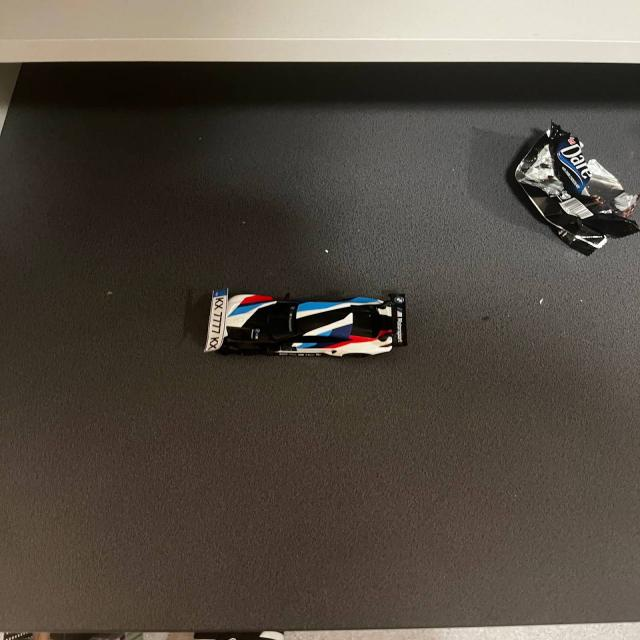cars: (202, 278, 409, 371)
